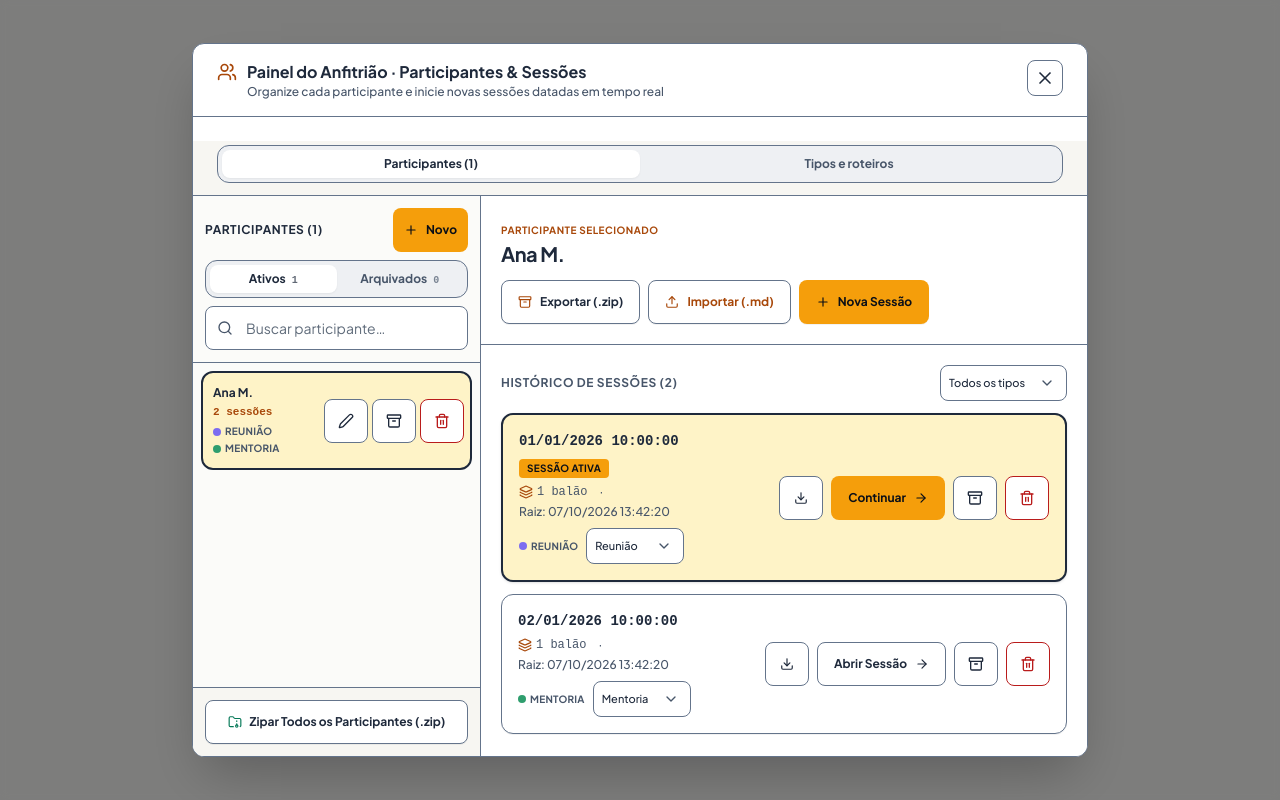
Test: AdminClientManager catalog tab › the catalog lives beside the clients, not inside one
Check: the text "Ana M." is shown, box x1=213 y1=385 x2=253 y2=400
Check: the text "Tipos de atendimento" is not shown
Click the tab "Tipos e roteiros": coordinates (849, 164) x1=640 y1=150 x2=1058 y2=178
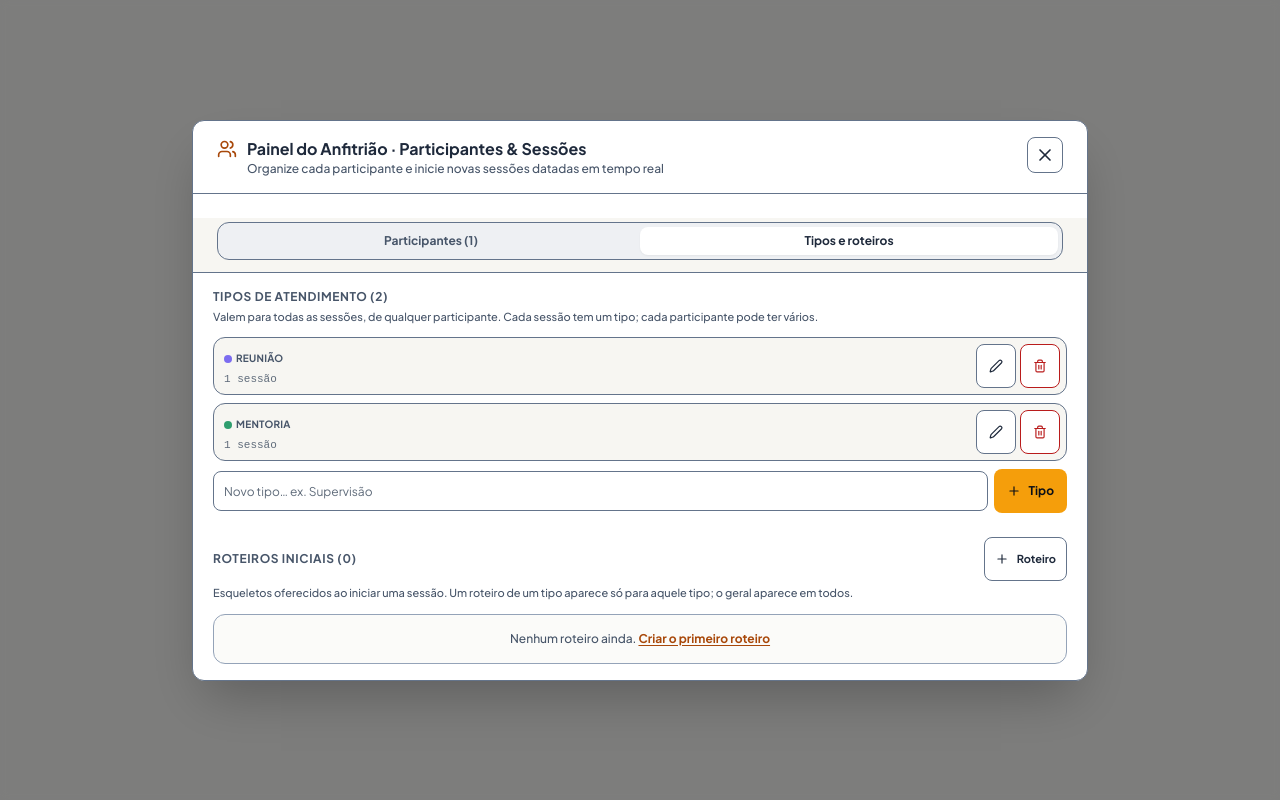
Check: the heading "Tipos de atendimento (2)" is shown, box x1=213 y1=288 x2=388 y2=304
Check: the heading "Roteiros iniciais (0)" is shown, box x1=213 y1=551 x2=357 y2=567
Check: no buttons "Ana M." are shown
Click the tab "Participantes (1)": coordinates (431, 240) x1=222 y1=226 x2=640 y2=254
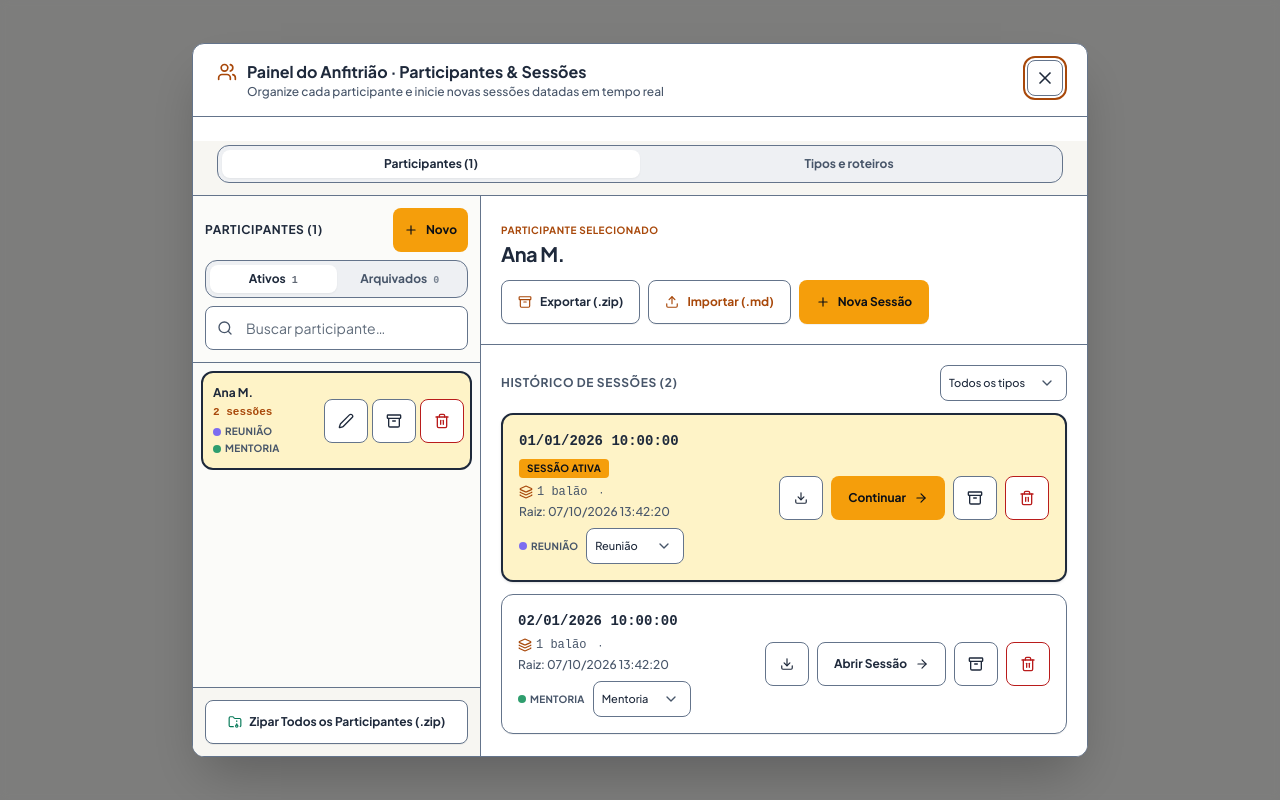
Check: the text "Ana M." is shown, box x1=213 y1=385 x2=253 y2=400
